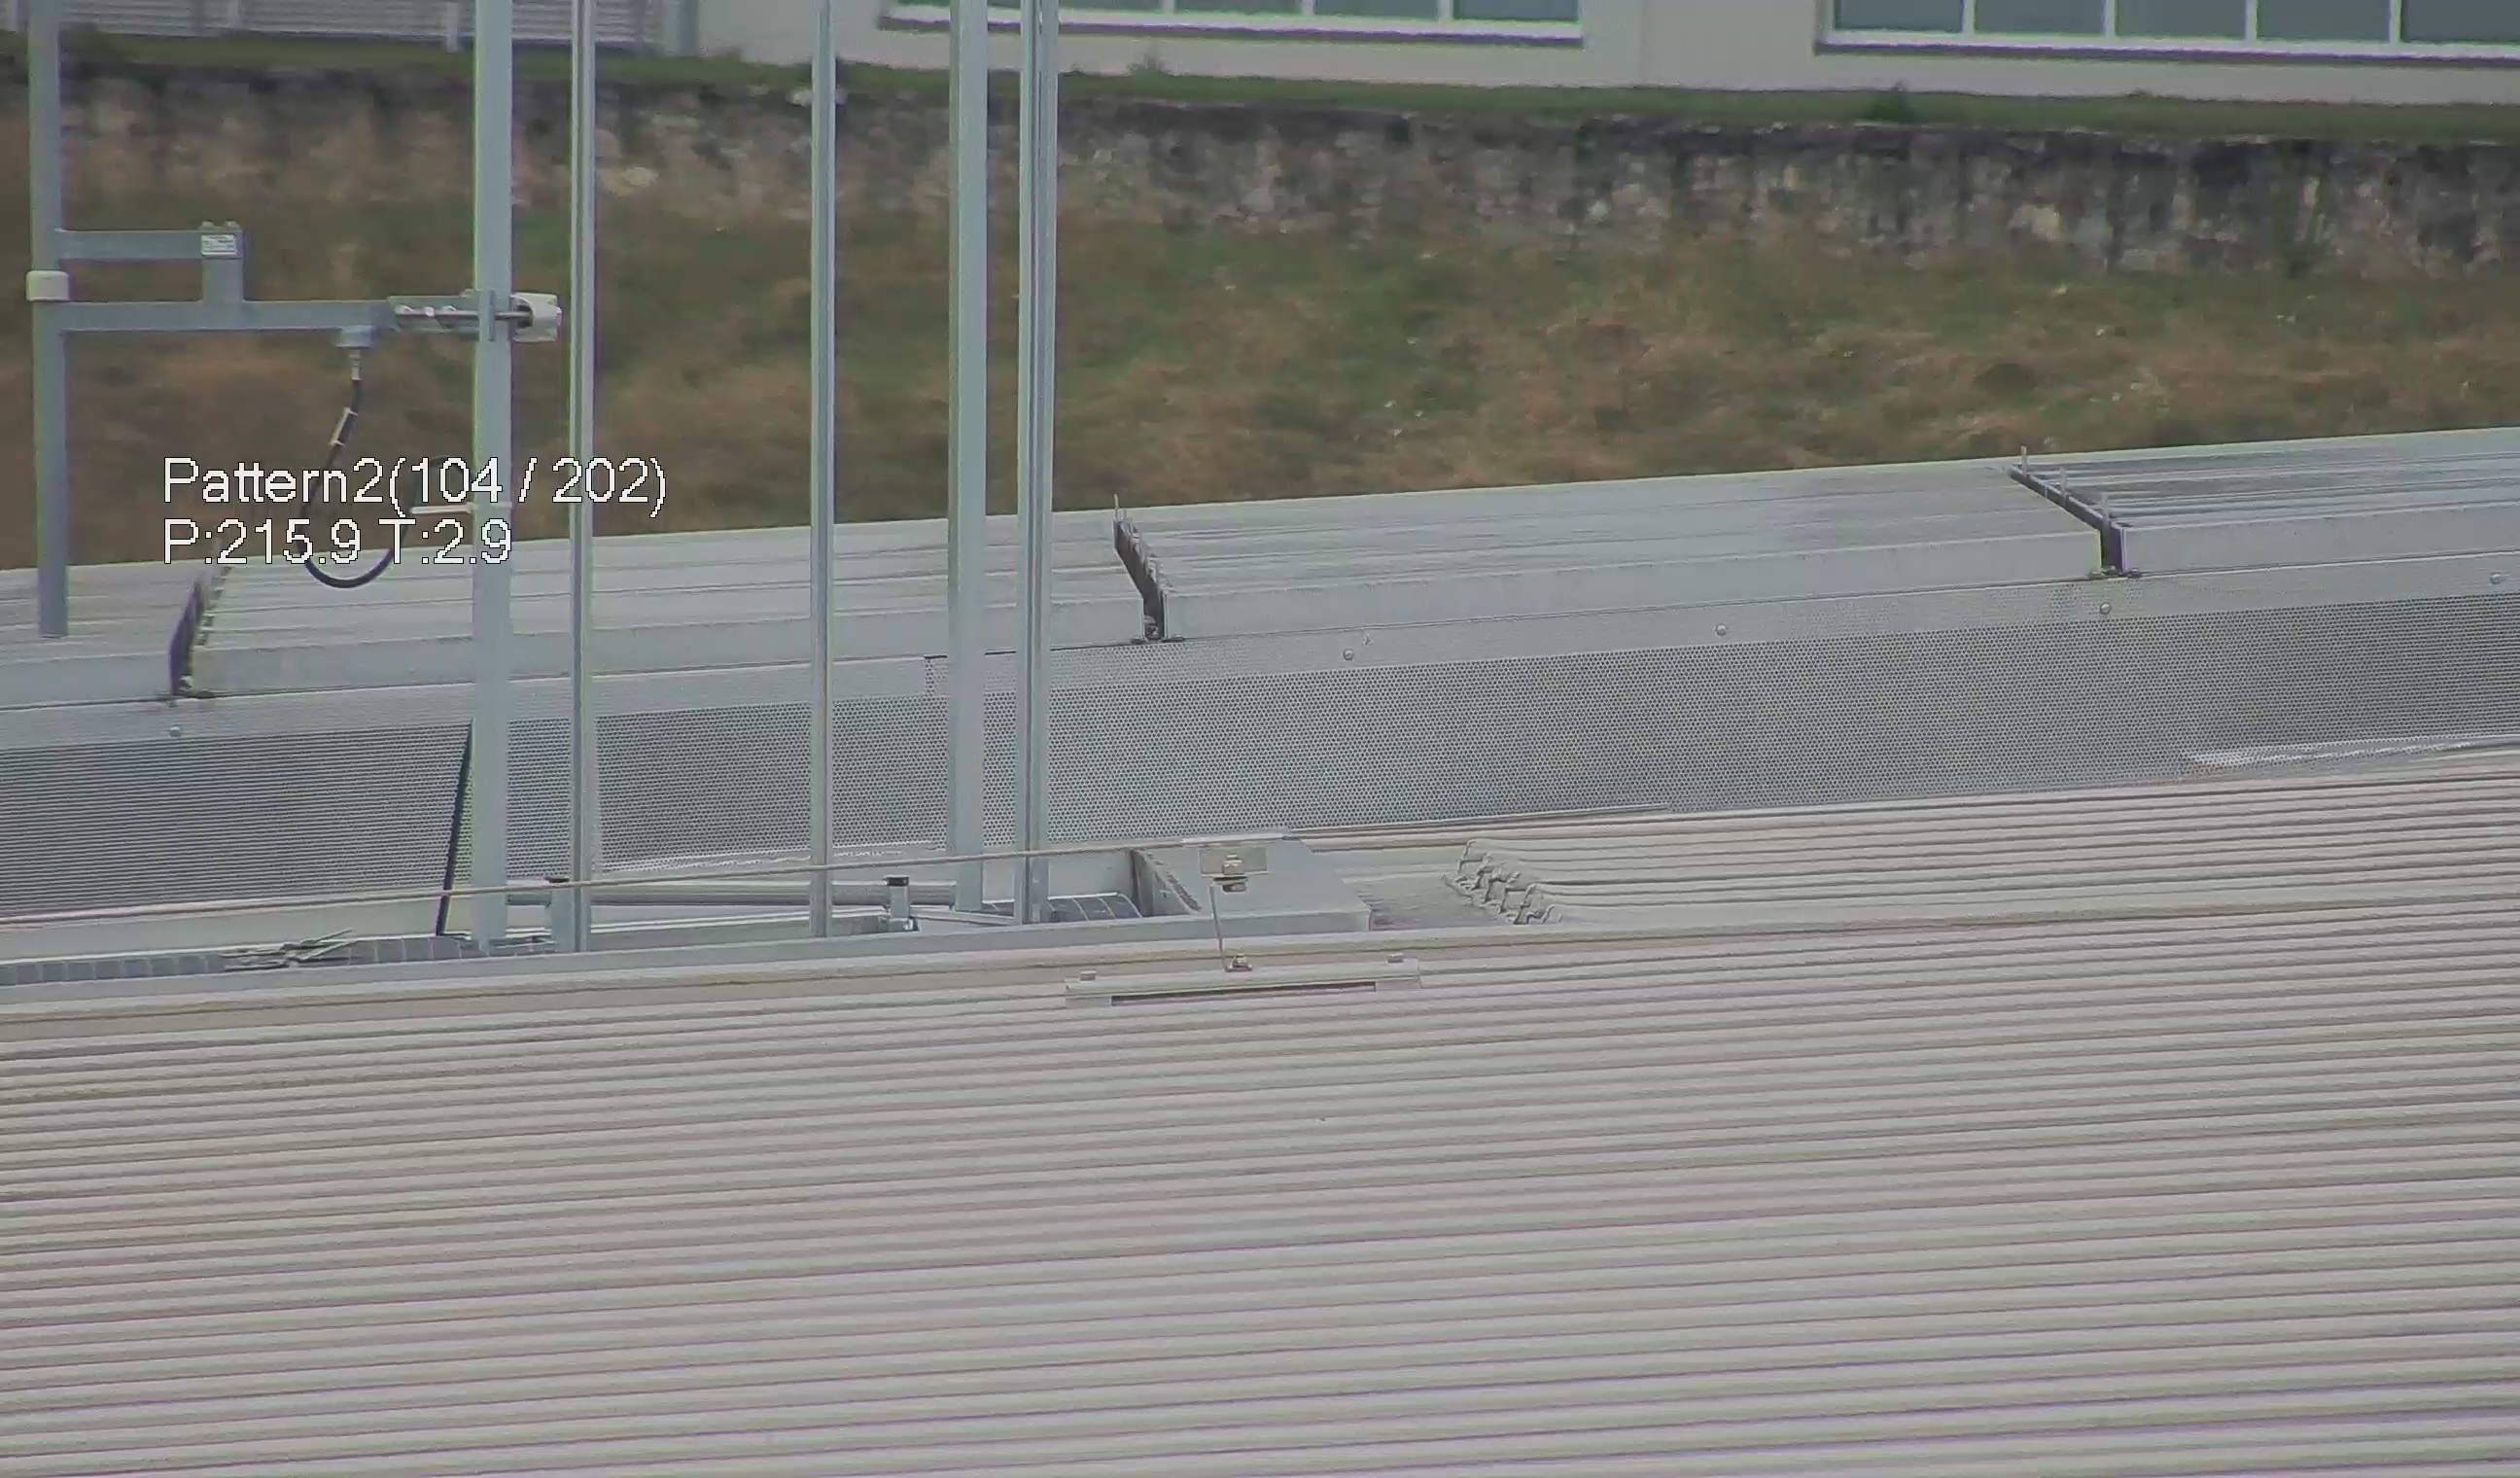Other: (1094, 486, 1184, 640)
